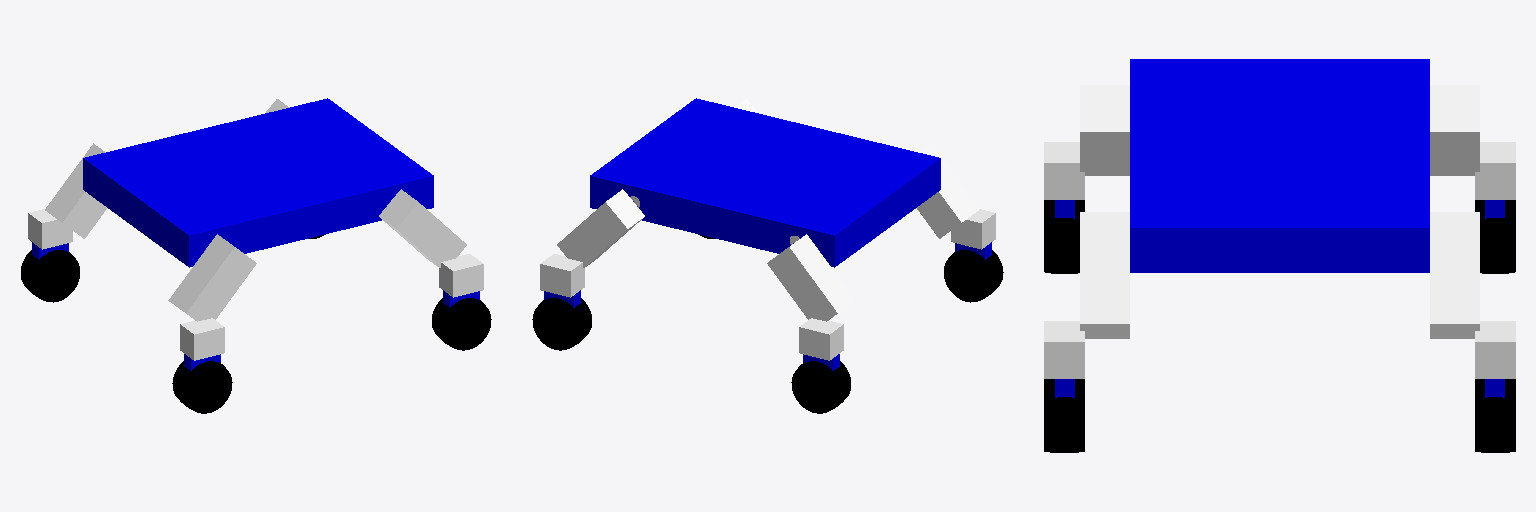
robot.urdf — train:
<?xml version="1.0" ?>
<!-- =================================================================================== -->
<!-- |    This document was autogenerated by xacro from train_robot.urdf.xacro         | -->
<!-- |    EDITING THIS FILE BY HAND IS NOT RECOMMENDED                                 | -->
<!-- =================================================================================== -->
<robot name="train" xmlns:xacro="http://ros.org/wiki/xacro">
  <link name="base_footprint"/>
  <!--
       Base link is set at the bottom of the base mould.
       This is done to be compatible with the way base link
       was configured for turtlebot 1. Refer to
       
       https://github.com/turtlebot/turtlebot/issues/40
       
       To put the base link at the more oft used wheel
       axis, set the z-distance from the base_footprint
       to 0.352.
      -->
  <joint name="base_joint" type="fixed">
    <origin rpy="0 0 0" xyz="0 0 0.22"/>
    <parent link="base_footprint"/>
    <child link="base_link"/>
  </joint>
  <link name="base_link">
    <visual>
      <geometry>
        <box size="0.4 0.3 0.05"/>
      </geometry>
      <material name="blue">
        <color rgba="0 0 1 1"/>
      </material>
    </visual>
  </link>
  <link name="front_axle">
    <visual>
      <geometry>
        <cylinder length="0.3" radius="0.01"/>
      </geometry>
      <origin rpy="1.57075 0 0" xyz="0.0 0.0 0.0"/>
      <material name="white">
        <color rgba="1 1 1 1"/>
      </material>
    </visual>
  </link>
  <joint name="base_to_front_axle" type="revolute">
    <axis xyz="0 -1 0"/>
    <limit effort="1000.0" lower="0" upper="6.28318" velocity="0.5"/>
    <origin rpy="0 -0.75 0" xyz="0.1275 0 0"/>
    <parent link="base_link"/>
    <child link="front_axle"/>
  </joint>
  <link name="rear_axle">
    <visual>
      <geometry>
        <cylinder length="0.3" radius="0.01"/>
      </geometry>
      <origin rpy="1.57075 0 0" xyz="0.0 0.0 0.0"/>
      <material name="white"/>
    </visual>
  </link>
  <joint name="base_to_rear_axle" type="revolute">
    <axis xyz="0 1 0"/>
    <limit effort="1000.0" lower="0" upper="6.28318" velocity="0.5"/>
    <origin rpy="0 0.75 0" xyz="-0.136 0 0"/>
    <parent link="base_link"/>
    <child link="rear_axle"/>
  </joint>
  <link name="front_right_leg">
    <visual>
      <geometry>
        <box size="0.05 .05 0.117"/>
      </geometry>
      <origin rpy="0 0 0" xyz="0.0 0.0 0.0585"/>
      <material name="white">
        <color rgba="1 1 1 1"/>
      </material>
    </visual>
  </link>
  <joint name="base_to_front_right_leg" type="fixed">
    <axis xyz="1 0 0"/>
    <origin rpy="0 3.1415 1.57075" xyz="0 0.175 0"/>
    <parent link="front_axle"/>
    <child link="front_right_leg"/>
  </joint>
  <link name="front_right_lowleg">
    <visual>
      <geometry>
        <box size="0.04 .05 0.041"/>
      </geometry>
      <origin rpy="0 0 0" xyz="0.0 0.0 0.0205"/>
      <material name="white"/>
    </visual>
  </link>
  <joint name="leg_to_front_right_lowleg" type="continuous">
    <axis xyz="-1 0 0"/>
    <limit effort="1000.0" velocity="0.5"/>
    <origin rpy="0 0 0" xyz="-0.04 0.0 0.117"/>
    <parent link="front_right_leg"/>
    <child link="front_right_lowleg"/>
    <mimic joint="base_to_front_axle" multiplier="1" offset="0.75"/>
  </joint>
  <link name="front_right_turnleg">
    <visual>
      <geometry>
        <box size="0.02 .05 .05"/>
      </geometry>
      <origin rpy="0 0 0" xyz="0.0 0.0 0.025"/>
      <material name="blue"/>
    </visual>
  </link>
  <joint name="leg_to_front_right_turnleg" type="revolute">
    <axis xyz="0 0 1"/>
    <limit effort="1000.0" lower="-3.1415" upper="3.1415" velocity="0.5"/>
    <origin rpy="0 0 0" xyz="0.0 0.0 0.041"/>
    <parent link="front_right_lowleg"/>
    <child link="front_right_turnleg"/>
  </joint>
  <link name="front_right_wheel">
    <visual>
      <geometry>
        <mesh filename="package://train/urdf/meshes/hjul.stl"/>
      </geometry>
      <material name="black">
        <color rgba="0 0 0 1"/>
      </material>
    </visual>
  </link>
  <joint name="front_right_wheel_joint" type="continuous">
    <axis xyz="0 0 1"/>
    <parent link="front_right_turnleg"/>
    <child link="front_right_wheel"/>
    <origin rpy="0 1.57075 0" xyz="0 0 0.05"/>
    <limit effort="100" velocity="100"/>
    <joint_properties damping="0.0" friction="0.0"/>
  </joint>
  <link name="front_left_leg">
    <visual>
      <geometry>
        <box size="0.05 .05 0.117"/>
      </geometry>
      <origin rpy="0 0 0" xyz="0.0 0.0 0.0585"/>
      <material name="white">
        <color rgba="1 1 1 1"/>
      </material>
    </visual>
  </link>
  <joint name="base_to_front_left_leg" type="fixed">
    <axis xyz="1 0 0"/>
    <origin rpy="0 3.1415 1.57075" xyz="0 -0.175 0"/>
    <parent link="front_axle"/>
    <child link="front_left_leg"/>
  </joint>
  <link name="front_left_lowleg">
    <visual>
      <geometry>
        <box size="0.04 .05 0.041"/>
      </geometry>
      <origin rpy="0 0 0" xyz="0.0 0.0 0.0205"/>
      <material name="white"/>
    </visual>
  </link>
  <joint name="leg_to_front_left_lowleg" type="continuous">
    <axis xyz="-1 0 0"/>
    <limit effort="1000.0" velocity="0.5"/>
    <origin rpy="0 0 0" xyz="0.04 0.0 0.117"/>
    <parent link="front_left_leg"/>
    <child link="front_left_lowleg"/>
    <mimic joint="base_to_front_axle" multiplier="1" offset="0.75"/>
  </joint>
  <link name="front_left_turnleg">
    <visual>
      <geometry>
        <box size="0.02 .05 .05"/>
      </geometry>
      <origin rpy="0 0 0" xyz="0.0 0.0 0.025"/>
      <material name="blue"/>
    </visual>
  </link>
  <joint name="leg_to_front_left_turnleg" type="revolute">
    <axis xyz="0 0 1"/>
    <limit effort="1000.0" lower="-3.1415" upper="3.1415" velocity="0.5"/>
    <origin rpy="0 0 0" xyz="0.0 0.0 0.041"/>
    <parent link="front_left_lowleg"/>
    <child link="front_left_turnleg"/>
  </joint>
  <link name="front_left_wheel">
    <visual>
      <geometry>
        <mesh filename="package://train/urdf/meshes/hjul.stl"/>
      </geometry>
      <material name="black">
        <color rgba="0 0 0 1"/>
      </material>
    </visual>
  </link>
  <joint name="front_left_wheel_joint" type="continuous">
    <axis xyz="0 0 1"/>
    <parent link="front_left_turnleg"/>
    <child link="front_left_wheel"/>
    <origin rpy="0 1.57075 0" xyz="0 0 0.05"/>
    <limit effort="100" velocity="100"/>
    <joint_properties damping="0.0" friction="0.0"/>
  </joint>
  <link name="rear_right_leg">
    <visual>
      <geometry>
        <box size="0.05 .05 0.117"/>
      </geometry>
      <origin rpy="0 0 0" xyz="0.0 0.0 0.0585"/>
      <material name="white">
        <color rgba="1 1 1 1"/>
      </material>
    </visual>
  </link>
  <joint name="base_to_rear_right_leg" type="fixed">
    <axis xyz="1 0 0"/>
    <origin rpy="0 3.1415 1.57075" xyz="0 0.175 0"/>
    <parent link="rear_axle"/>
    <child link="rear_right_leg"/>
  </joint>
  <link name="rear_right_lowleg">
    <visual>
      <geometry>
        <box size="0.04 .05 0.041"/>
      </geometry>
      <origin rpy="0 0 0" xyz="0.0 0.0 0.0205"/>
      <material name="white"/>
    </visual>
  </link>
  <joint name="leg_to_rear_right_lowleg" type="continuous">
    <axis xyz="1 0 0"/>
    <limit effort="1000.0" velocity="0.5"/>
    <origin rpy="0 0 0" xyz="-0.04 0.0 0.117"/>
    <parent link="rear_right_leg"/>
    <child link="rear_right_lowleg"/>
    <mimic joint="base_to_rear_axle" multiplier="1" offset="0.75"/>
  </joint>
  <link name="rear_right_turnleg">
    <visual>
      <geometry>
        <box size="0.02 .05 .05"/>
      </geometry>
      <origin rpy="0 0 0" xyz="0.0 0.0 0.025"/>
      <material name="blue"/>
    </visual>
  </link>
  <joint name="leg_to_rear_right_turnleg" type="revolute">
    <axis xyz="0 0 1"/>
    <limit effort="1000.0" lower="-3.1415" upper="3.1415" velocity="0.5"/>
    <origin rpy="0 0 0" xyz="0.0 0.0 0.041"/>
    <parent link="rear_right_lowleg"/>
    <child link="rear_right_turnleg"/>
  </joint>
  <link name="rear_right_wheel">
    <visual>
      <geometry>
        <mesh filename="package://train/urdf/meshes/hjul.stl"/>
      </geometry>
      <material name="black">
        <color rgba="0 0 0 1"/>
      </material>
    </visual>
  </link>
  <joint name="rear_right_wheel_joint" type="continuous">
    <axis xyz="0 0 1"/>
    <parent link="rear_right_turnleg"/>
    <child link="rear_right_wheel"/>
    <origin rpy="0 1.57075 0" xyz="0 0 0.05"/>
    <limit effort="100" velocity="100"/>
    <joint_properties damping="0.0" friction="0.0"/>
  </joint>
  <link name="rear_left_leg">
    <visual>
      <geometry>
        <box size="0.05 .05 0.117"/>
      </geometry>
      <origin rpy="0 0 0" xyz="0.0 0.0 0.0585"/>
      <material name="white">
        <color rgba="1 1 1 1"/>
      </material>
    </visual>
  </link>
  <joint name="base_to_rear_left_leg" type="fixed">
    <axis xyz="1 0 0"/>
    <origin rpy="0 3.1415 1.57075" xyz="0 -0.175 0"/>
    <parent link="rear_axle"/>
    <child link="rear_left_leg"/>
  </joint>
  <link name="rear_left_lowleg">
    <visual>
      <geometry>
        <box size="0.04 .05 0.041"/>
      </geometry>
      <origin rpy="0 0 0" xyz="0.0 0.0 0.0205"/>
      <material name="white"/>
    </visual>
  </link>
  <joint name="leg_to_rear_left_lowleg" type="continuous">
    <axis xyz="1 0 0"/>
    <limit effort="1000.0" velocity="0.5"/>
    <origin rpy="0 0 0" xyz="0.04 0.0 0.117"/>
    <parent link="rear_left_leg"/>
    <child link="rear_left_lowleg"/>
    <mimic joint="base_to_rear_axle" multiplier="1" offset="0.75"/>
  </joint>
  <link name="rear_left_turnleg">
    <visual>
      <geometry>
        <box size="0.02 .05 .05"/>
      </geometry>
      <origin rpy="0 0 0" xyz="0.0 0.0 0.025"/>
      <material name="blue"/>
    </visual>
  </link>
  <joint name="leg_to_rear_left_turnleg" type="revolute">
    <axis xyz="0 0 1"/>
    <limit effort="1000.0" lower="-3.1415" upper="3.1415" velocity="0.5"/>
    <origin rpy="0 0 0" xyz="0.0 0.0 0.041"/>
    <parent link="rear_left_lowleg"/>
    <child link="rear_left_turnleg"/>
  </joint>
  <link name="rear_left_wheel">
    <visual>
      <geometry>
        <mesh filename="package://train/urdf/meshes/hjul.stl"/>
      </geometry>
      <material name="black">
        <color rgba="0 0 0 1"/>
      </material>
    </visual>
  </link>
  <joint name="rear_left_wheel_joint" type="continuous">
    <axis xyz="0 0 1"/>
    <parent link="rear_left_turnleg"/>
    <child link="rear_left_wheel"/>
    <origin rpy="0 1.57075 0" xyz="0 0 0.05"/>
    <limit effort="100" velocity="100"/>
    <joint_properties damping="0.0" friction="0.0"/>
  </joint>
</robot>

--- Render facts (derived) ---
Views: 3 orthographic renders of the robot side by side, from view 1: azimuth 30°, elevation 25°; view 2: azimuth 150°, elevation 25°; view 3: azimuth 270°, elevation 25°.
Model train with 20 links and 19 joints (6 revolute, 8 continuous, 5 fixed), rooted at base_footprint, posed every joint at zero.
Visible links, largest first — view 1: base_link, rear_left_leg, front_left_leg, rear_left_wheel, front_left_wheel, rear_right_wheel, rear_right_leg, rear_left_lowleg, front_left_lowleg, rear_right_lowleg; view 2: base_link, rear_right_leg, front_right_leg, rear_right_wheel, front_right_wheel, rear_left_wheel, rear_left_leg, rear_right_lowleg, front_right_lowleg, rear_left_lowleg; view 3: base_link, front_right_leg, front_left_leg, rear_right_leg, rear_left_leg, front_right_wheel, front_left_wheel, rear_right_wheel, rear_left_wheel, front_right_lowleg, front_left_lowleg, rear_right_lowleg (+1 smaller).
Link boxes in pixels (bbox=[...]): base_link: bbox=[83, 98, 433, 267]; rear_left_leg: bbox=[168, 234, 256, 321]; front_left_leg: bbox=[379, 189, 466, 267]; rear_left_wheel: bbox=[172, 361, 232, 413]; front_left_wheel: bbox=[432, 298, 491, 350]; rear_right_wheel: bbox=[21, 250, 79, 302]; rear_right_leg: bbox=[45, 143, 106, 238]; rear_left_lowleg: bbox=[180, 318, 224, 360]; front_left_lowleg: bbox=[439, 254, 483, 297]; rear_right_lowleg: bbox=[28, 209, 72, 249]; base_link: bbox=[590, 98, 940, 267]; rear_right_leg: bbox=[767, 234, 855, 321]; front_right_leg: bbox=[557, 189, 644, 267]; rear_right_wheel: bbox=[791, 361, 850, 413]; front_right_wheel: bbox=[532, 298, 591, 350]; rear_left_wheel: bbox=[944, 250, 1003, 302]; rear_left_leg: bbox=[917, 143, 978, 238]; rear_right_lowleg: bbox=[799, 318, 843, 360]; front_right_lowleg: bbox=[540, 254, 584, 297]; rear_left_lowleg: bbox=[951, 209, 995, 249]; base_link: bbox=[1130, 59, 1429, 272]; front_right_leg: bbox=[1430, 212, 1479, 338]; front_left_leg: bbox=[1080, 212, 1129, 338]; rear_right_leg: bbox=[1430, 85, 1479, 175]; rear_left_leg: bbox=[1080, 85, 1129, 175]; front_right_wheel: bbox=[1475, 379, 1515, 452]; front_left_wheel: bbox=[1044, 379, 1084, 452]; rear_right_wheel: bbox=[1475, 200, 1515, 273]; rear_left_wheel: bbox=[1044, 200, 1084, 273]; front_right_lowleg: bbox=[1475, 321, 1515, 378]; front_left_lowleg: bbox=[1044, 321, 1084, 378]; rear_right_lowleg: bbox=[1475, 142, 1515, 199].
Bounding box of the posed robot: 0.5016 × 0.47 × 0.2409 m (x, y, z).
4 mesh visuals loaded from 1 distinct referenced files (1 binary STL).